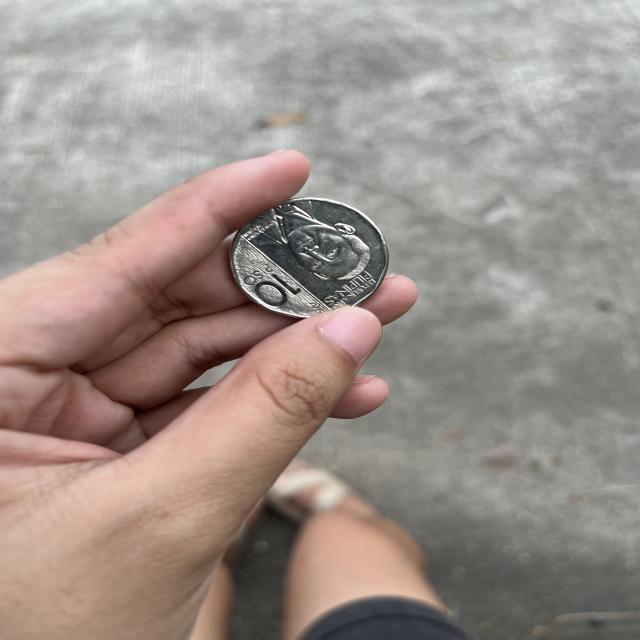10_New_Front: (238, 262, 306, 307)
